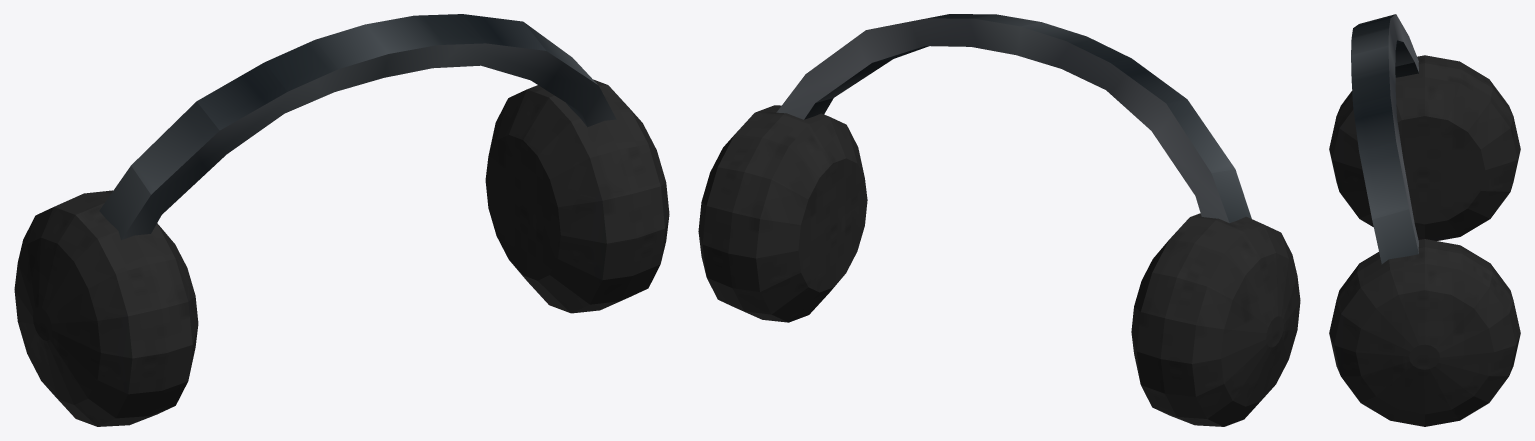
The model's file is earmuffsblack.fbx.
The picture shows the model from 3 angles, left to right: view 1: azimuth 30°, elevation 25°; view 2: azimuth 150°, elevation 25°; view 3: azimuth 270°, elevation 25°; orthographic projection. The views are drawn at different scales.
Visible parts, largest first — view 1: earmuffsblack; view 2: earmuffsblack; view 3: earmuffsblack.
Boxes of the visible parts, <box> form: earmuffsblack: <box>14,14,669,426</box>; earmuffsblack: <box>698,14,1300,426</box>; earmuffsblack: <box>1329,14,1520,426</box>.
Size of the model in its own units: 34.91 by 19.55 by 12.06.
